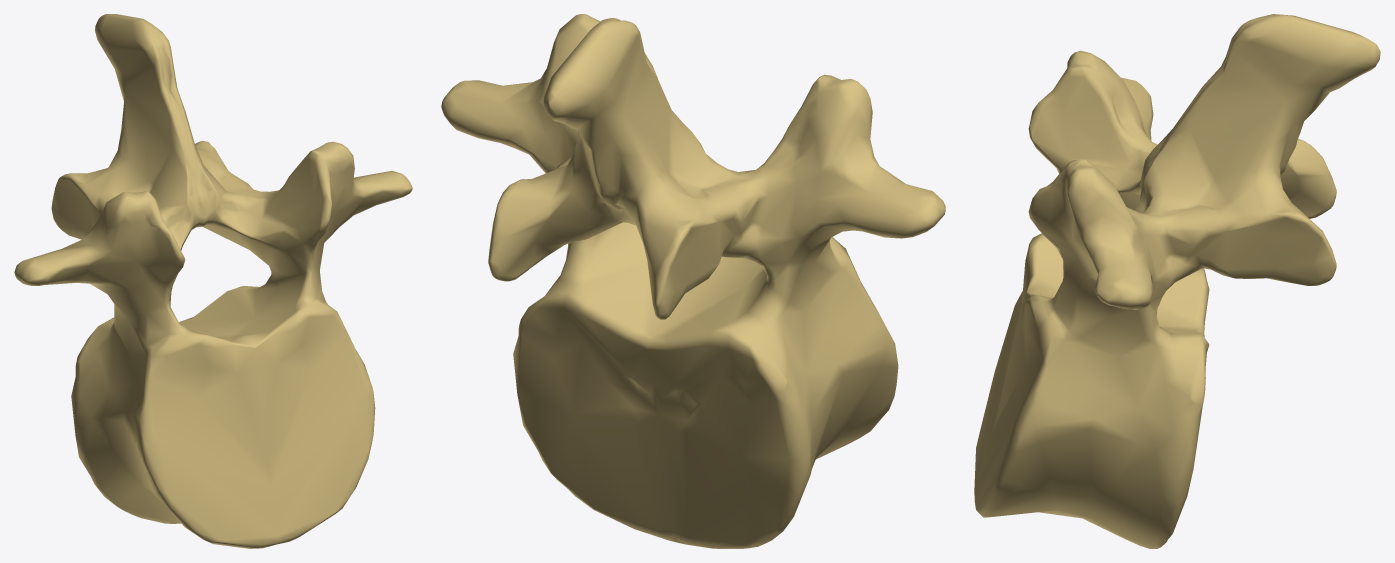
3 renders of one model, left to right at view 1: azimuth 30°, elevation 25°; view 2: azimuth 150°, elevation 25°; view 3: azimuth 270°, elevation 25°, orthographic. The views are drawn at different scales.
Visible parts, largest first — view 1: 第一腰椎; view 2: 第一腰椎; view 3: 第一腰椎.
Part boxes in pixels (left/top/right/bottom): 第一腰椎: left=14, top=14, right=412, bottom=548; 第一腰椎: left=441, top=14, right=945, bottom=548; 第一腰椎: left=974, top=14, right=1380, bottom=548.
Size of the model in its own units: 0.1096 by 0.1224 by 0.0873.
